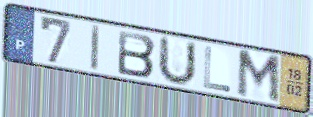7: (38, 14, 73, 66)
B: (116, 28, 158, 79)
I: (89, 23, 102, 74)
L: (201, 44, 232, 95)
M: (235, 48, 282, 106)
U: (155, 34, 198, 88)
